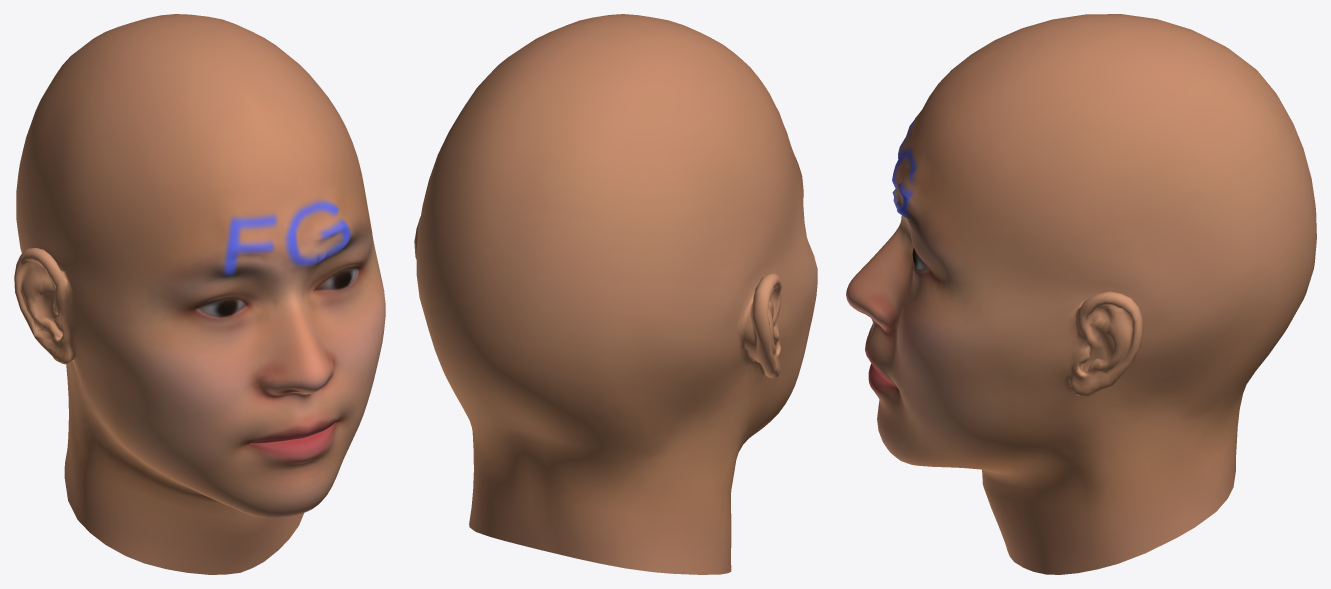
File: avg_eastasian_anysex.obj
3 views of the same model, side by side, from view 1: azimuth 30°, elevation 25°; view 2: azimuth 150°, elevation 25°; view 3: azimuth 270°, elevation 25° (orthographic). The views are drawn at different scales.
Parts seen in each view (by area): view 1: HeadHires; view 2: HeadHires; view 3: HeadHires.
Boxes of the visible parts, x1=… form: HeadHires: x1=14, y1=14, x2=385, y2=574; HeadHires: x1=414, y1=14, x2=817, y2=574; HeadHires: x1=846, y1=14, x2=1316, y2=574.
Bounding box in the file's own units: 192 × 283 × 232.
Materials: 3 (3 with a texture image).
